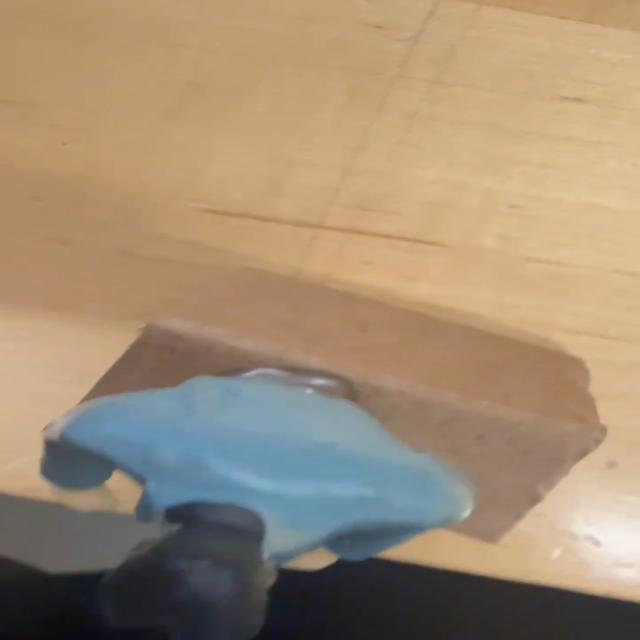Authorized: (37, 356, 468, 640)
